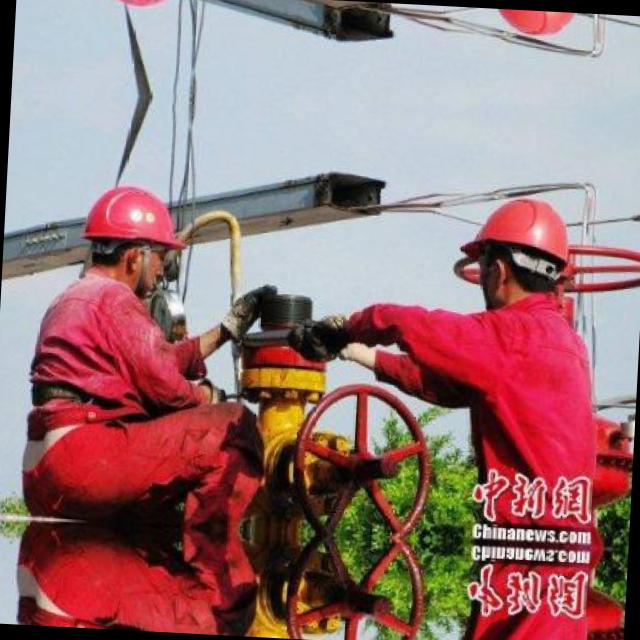helmet: (452, 184, 584, 320), (76, 174, 190, 300), (466, 7, 594, 51), (89, 0, 201, 19)
